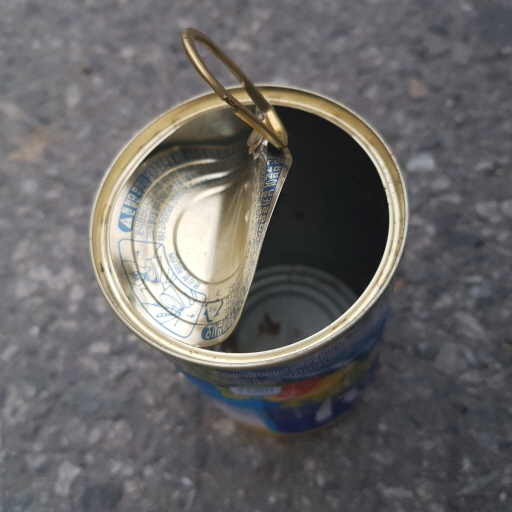Metal_1: (90, 25, 412, 437)
